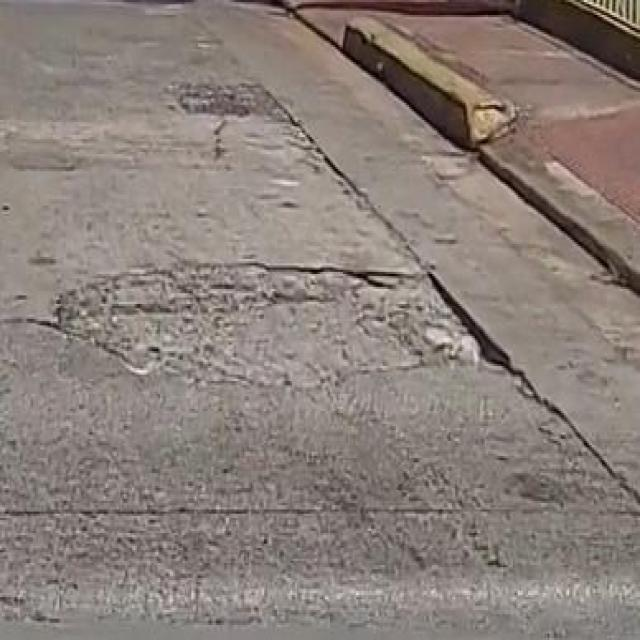Pothole: (54, 258, 518, 386)
